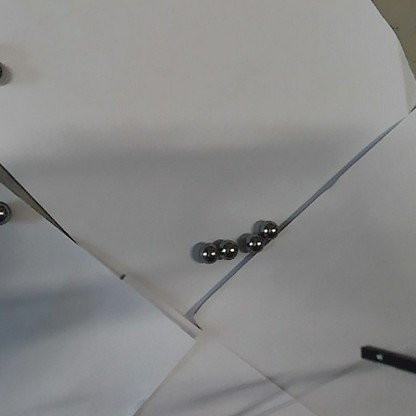ironball: (199, 244, 217, 263), (218, 238, 235, 257), (263, 219, 276, 237), (248, 234, 261, 251), (0, 200, 9, 224)
